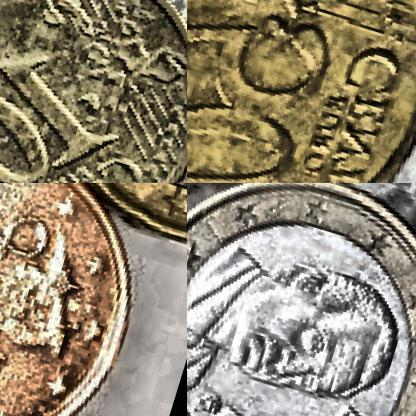coin: (187, 183, 415, 415), (187, 0, 415, 182), (0, 183, 171, 415), (0, 0, 186, 182)
